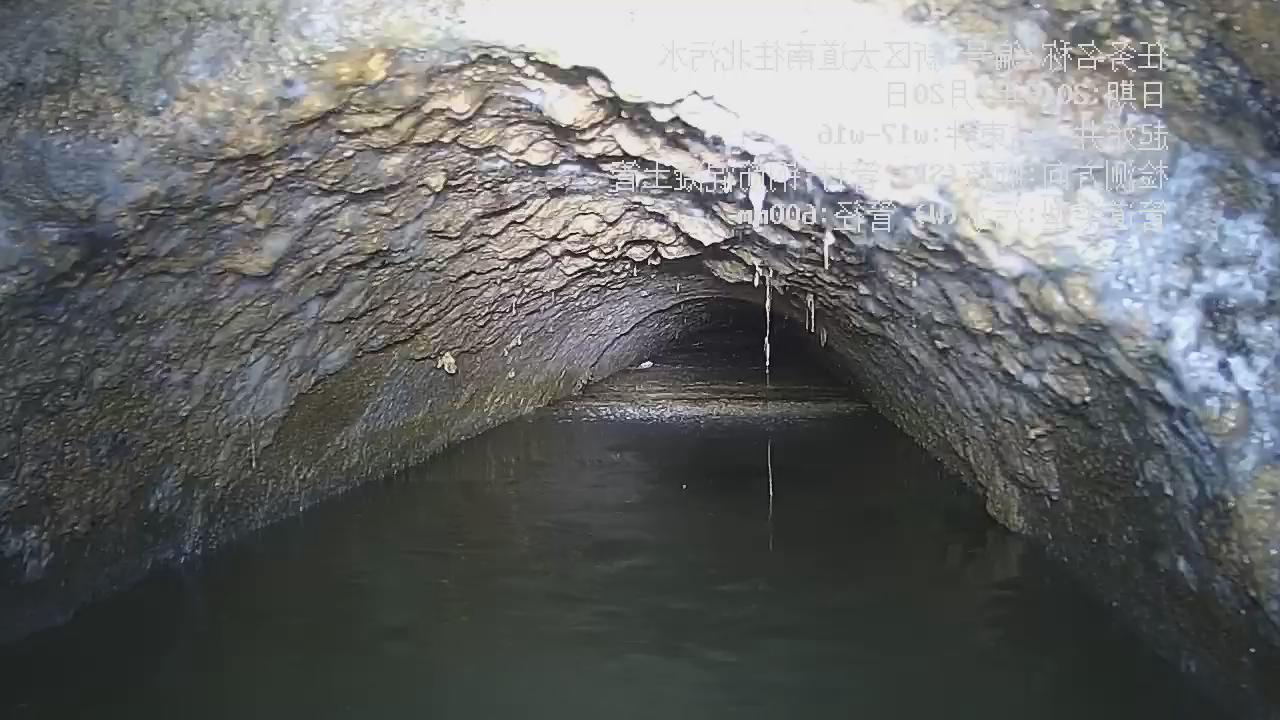FZ: (558, 366, 865, 420)
JG: (1, 0, 1280, 709)
